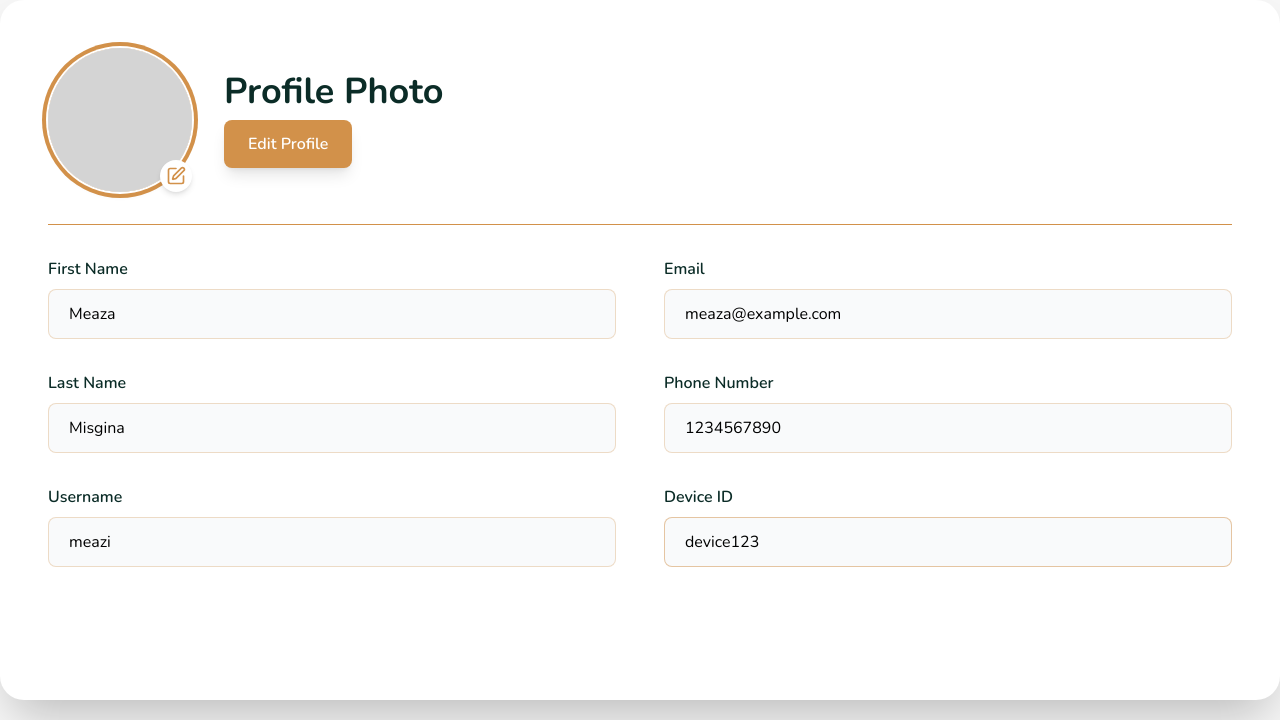
Test: ProfileForm › enables editing when Edit Profile button is clicked
What coordinates should you click on to do the following:
click the button "Edit Profile"
I would click on:
 (288, 144)
Its box is [224,120,352,168].
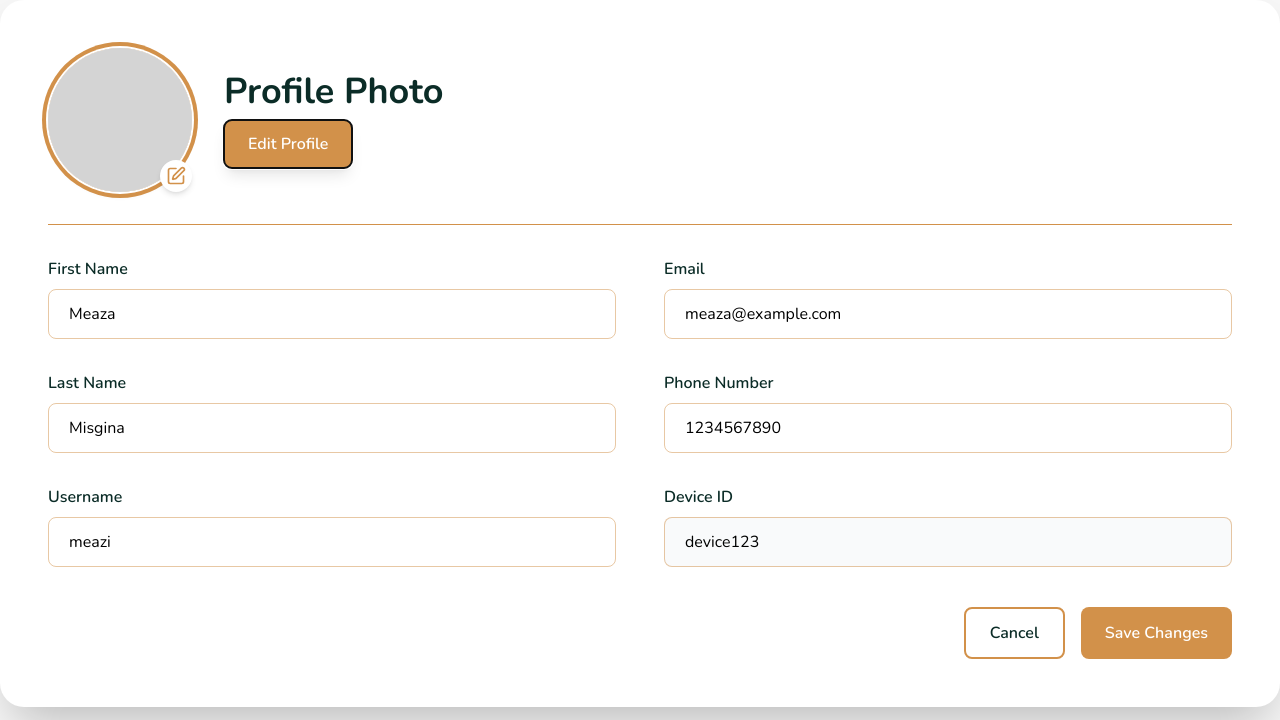
Expected: the field labelled "First Name" is enabled, [48,289,616,339]
Now the button "Save Changes" is shown, box [1081,607,1232,659]
Now the button "Cancel" is shown, box [964,607,1065,659]
